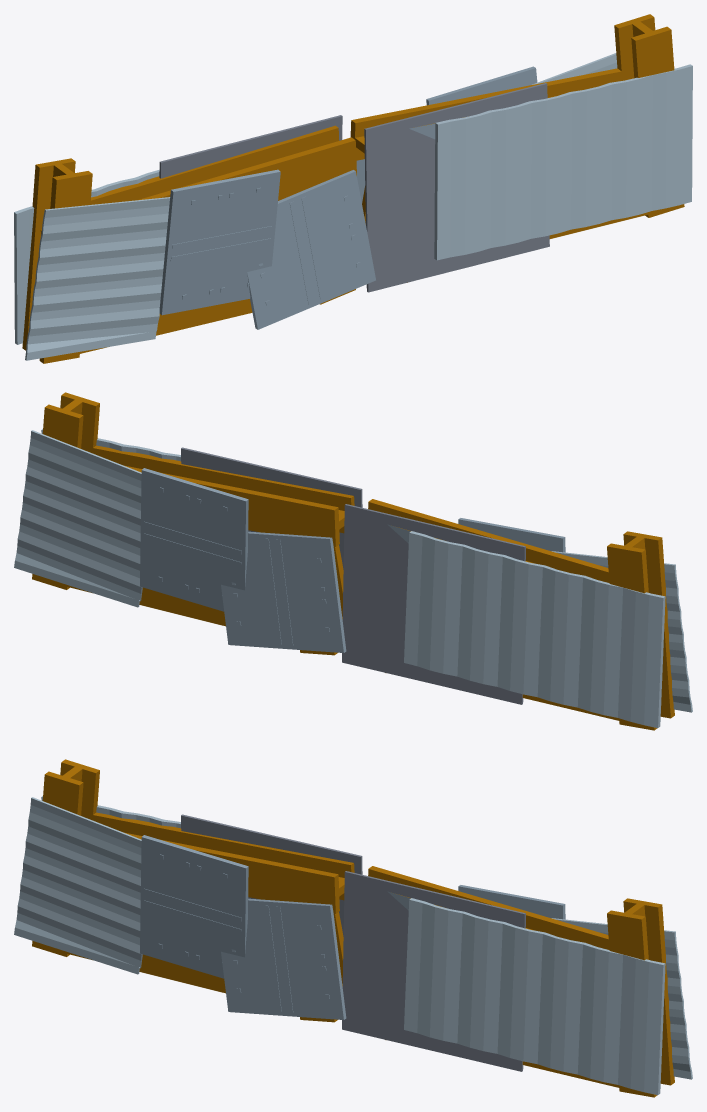
File: MetalGate.fbx
3 renders of one model, top to bottom at view 1: azimuth 30°, elevation 25°; view 2: azimuth 150°, elevation 25°; view 3: azimuth 330°, elevation 25°, orthographic. The views are drawn at different scales.
Parts seen in each view (by area): view 1: Cube.004, Cube.000; view 2: Cube.004, Cube.000; view 3: Cube.000, Cube.004.
Part boxes in pixels (left/top/right/bottom): Cube.004: left=14, top=115, right=375, bottom=363; Cube.000: left=350, top=14, right=692, bottom=292; Cube.004: left=342, top=499, right=692, bottom=730; Cube.000: left=14, top=392, right=362, bottom=655; Cube.000: left=342, top=866, right=692, bottom=1097; Cube.004: left=14, top=759, right=362, bottom=1022.
Bounding box in the file's own units: 558 × 152 × 55.02.
